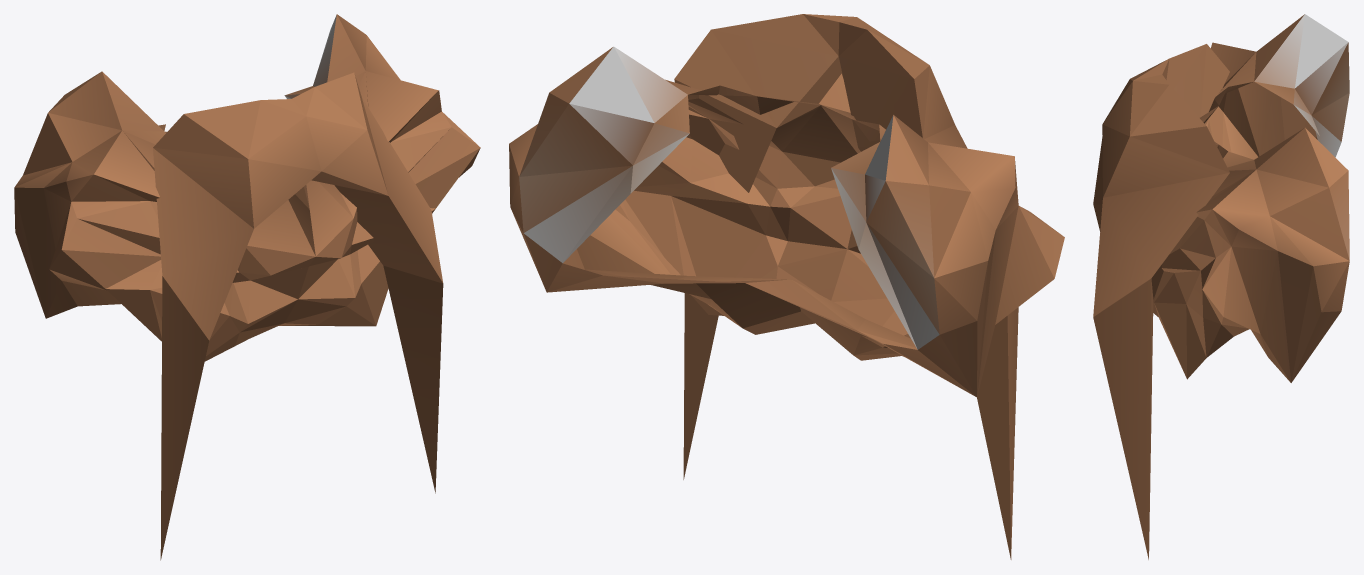
Rendered from beard_moustachy.fbx.
The picture shows the model from 3 angles, left to right: view 1: azimuth 30°, elevation 25°; view 2: azimuth 150°, elevation 25°; view 3: azimuth 270°, elevation 25°; orthographic projection. The views are drawn at different scales.
Parts seen in each view (by area): view 1: Beard_moustachy; view 2: Beard_moustachy; view 3: Beard_moustachy.
Boxes of the visible parts, x1,y1,x2,y2 form: Beard_moustachy: (14,14,480,560); Beard_moustachy: (509,14,1064,559); Beard_moustachy: (1093,14,1349,559).
Bounding box in the file's own units: 0.4143 × 0.3999 × 0.2195.
